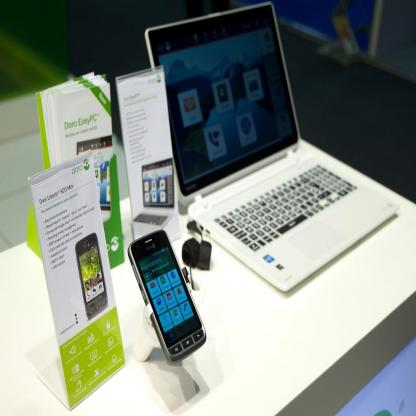board: (145, 0, 398, 293)
